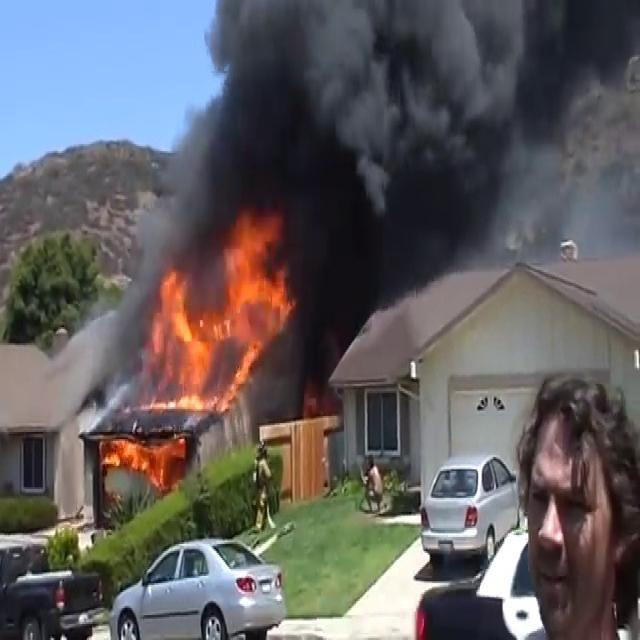Fire: (152, 212, 298, 412), (96, 429, 165, 486)
Smoke: (132, 0, 618, 324)
